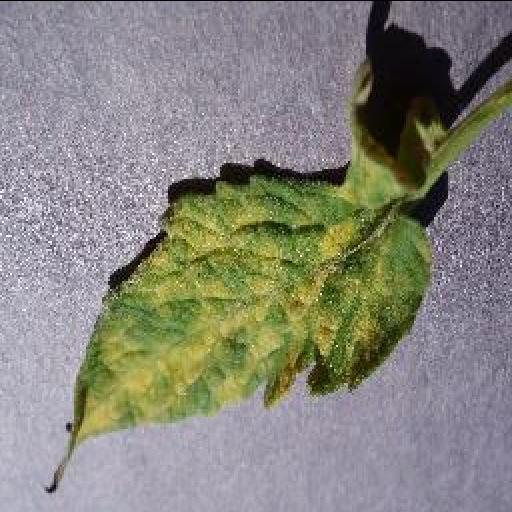disease_tomato: (46, 62, 430, 492)
